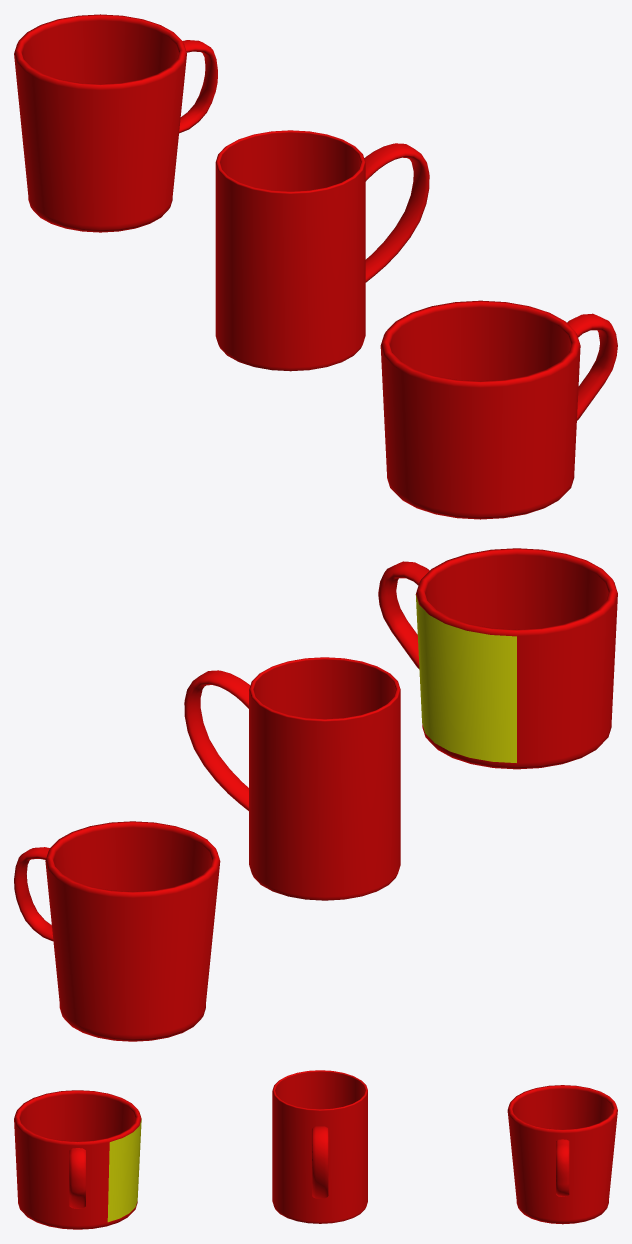
File: RoboTHOR_mugs_grp.fbx
The picture shows the model from 3 angles, top to bottom: view 1: azimuth 30°, elevation 25°; view 2: azimuth 150°, elevation 25°; view 3: azimuth 270°, elevation 25°; orthographic projection. The views are drawn at different scales.
Parts seen in each view (by area): view 1: thorkea_mug_ai2_1, thorkea_mug_ai2_2, thorkea_mug_dinera; view 2: thorkea_mug_ai2_1, thorkea_mug_ai2_2, thorkea_mug_dinera; view 3: thorkea_mug_ai2_1, thorkea_mug_ai2_2, thorkea_mug_dinera.
Boxes of the visible parts, bbox=[...] form: thorkea_mug_ai2_1: bbox=[380, 300, 617, 519]; thorkea_mug_ai2_2: bbox=[215, 130, 429, 371]; thorkea_mug_dinera: bbox=[14, 14, 217, 232]; thorkea_mug_ai2_1: bbox=[378, 548, 617, 769]; thorkea_mug_ai2_2: bbox=[184, 657, 400, 900]; thorkea_mug_dinera: bbox=[14, 821, 220, 1041]; thorkea_mug_ai2_1: bbox=[14, 1090, 141, 1229]; thorkea_mug_ai2_2: bbox=[272, 1070, 367, 1223]; thorkea_mug_dinera: bbox=[507, 1085, 617, 1224].
Size of the model in its own units: 13.48 by 10.5 by 49.81.
